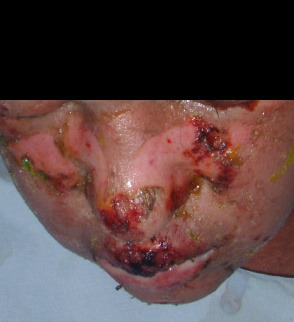SJS-TEN: (0, 104, 268, 249), (92, 232, 242, 299)
